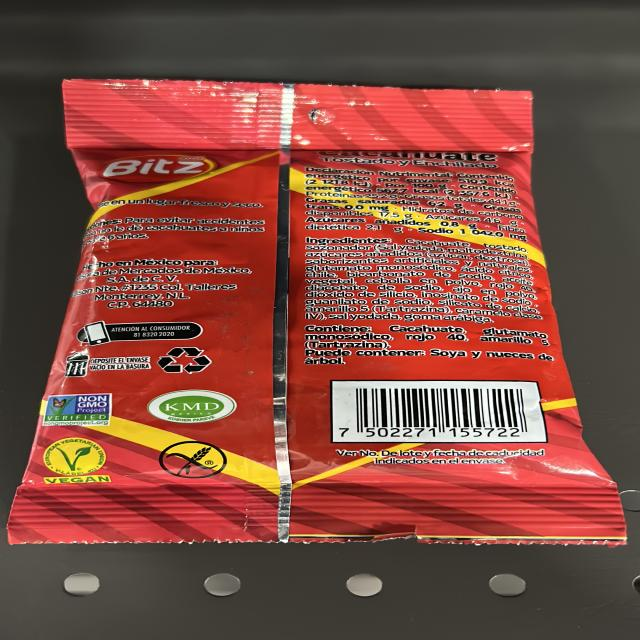productoAtras: (71, 89, 528, 541)
